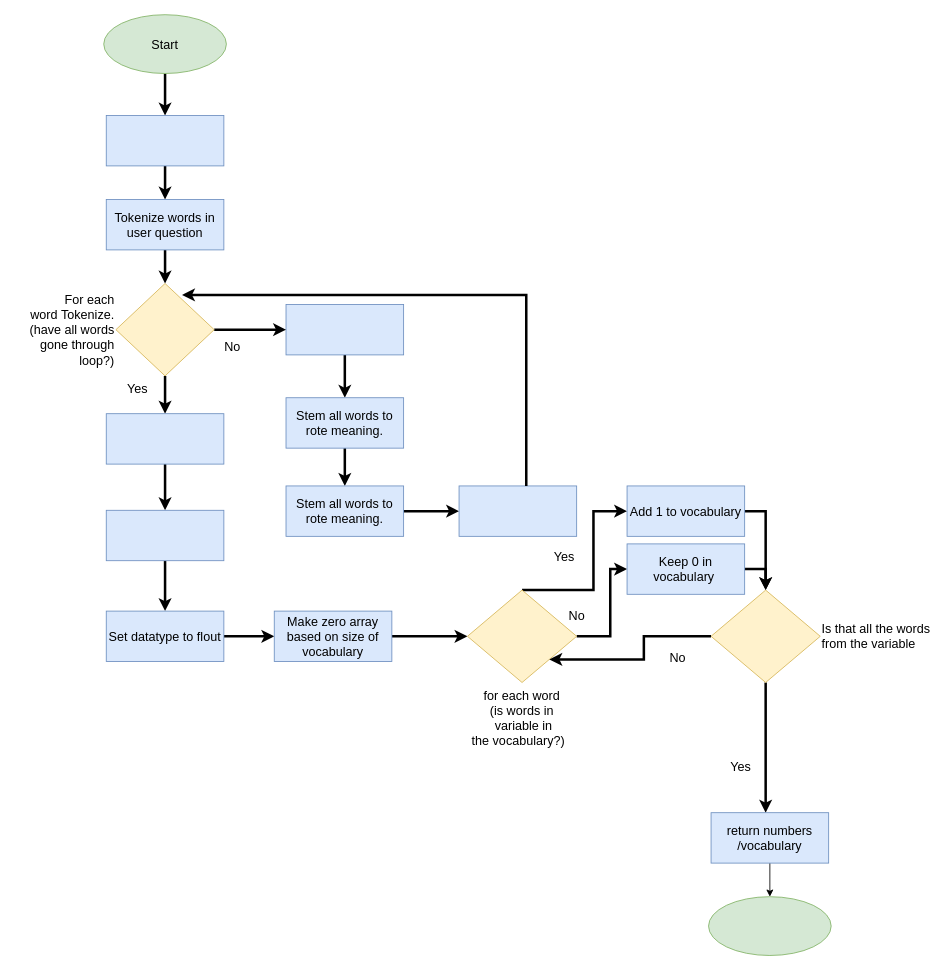
This 948x970 diagram has some shape labels left out. Each missing label, with the centre of its shape:
Add words in verbal: point (517, 510)
Calculate the size of the vocabulary: point (164, 535)
End: point (769, 926)
Initialise data .pth for words, extract words from file: point (164, 438)
Make all words that have been tokened to lower case: point (344, 329)
Receive user question data from existing files: point (164, 140)
